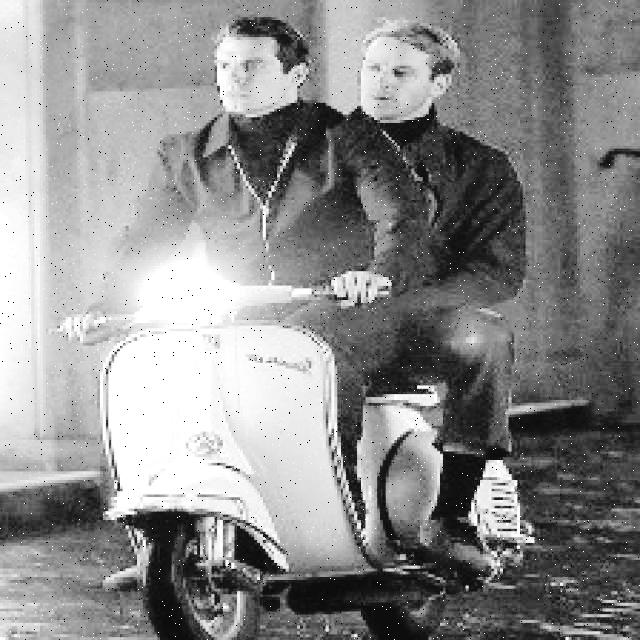Bike: (67, 285, 473, 623)
